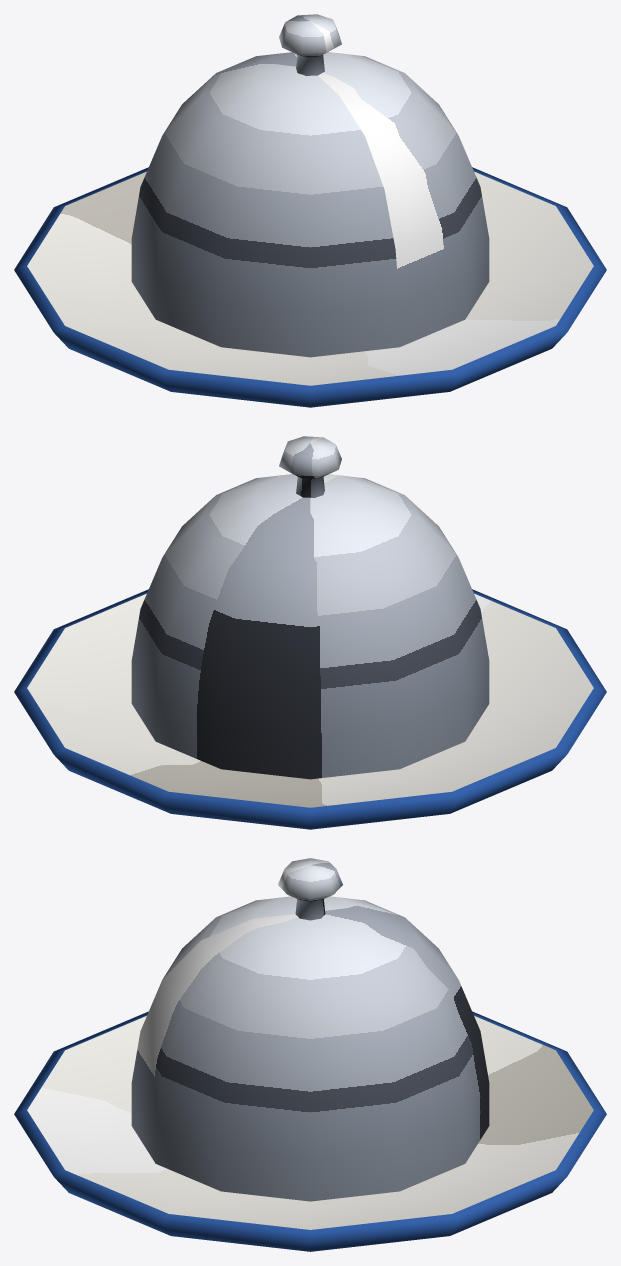
The model's file is moreB-dinnerCloche.glb.
3 renders of one model, top to bottom at view 1: azimuth 30°, elevation 25°; view 2: azimuth 150°, elevation 25°; view 3: azimuth 270°, elevation 25°, orthographic.
Visible parts, largest first — view 1: moreB.dinnerCloche; view 2: moreB.dinnerCloche; view 3: moreB.dinnerCloche.
Part boxes in pixels (box(x1,y1,x2,y2)): moreB.dinnerCloche: box(14, 14, 606, 407); moreB.dinnerCloche: box(14, 436, 606, 829); moreB.dinnerCloche: box(14, 858, 606, 1251).
Size of the model in its own units: 1.86 by 0.9841 by 1.86.
Materials: 4 (4 with a texture image).
